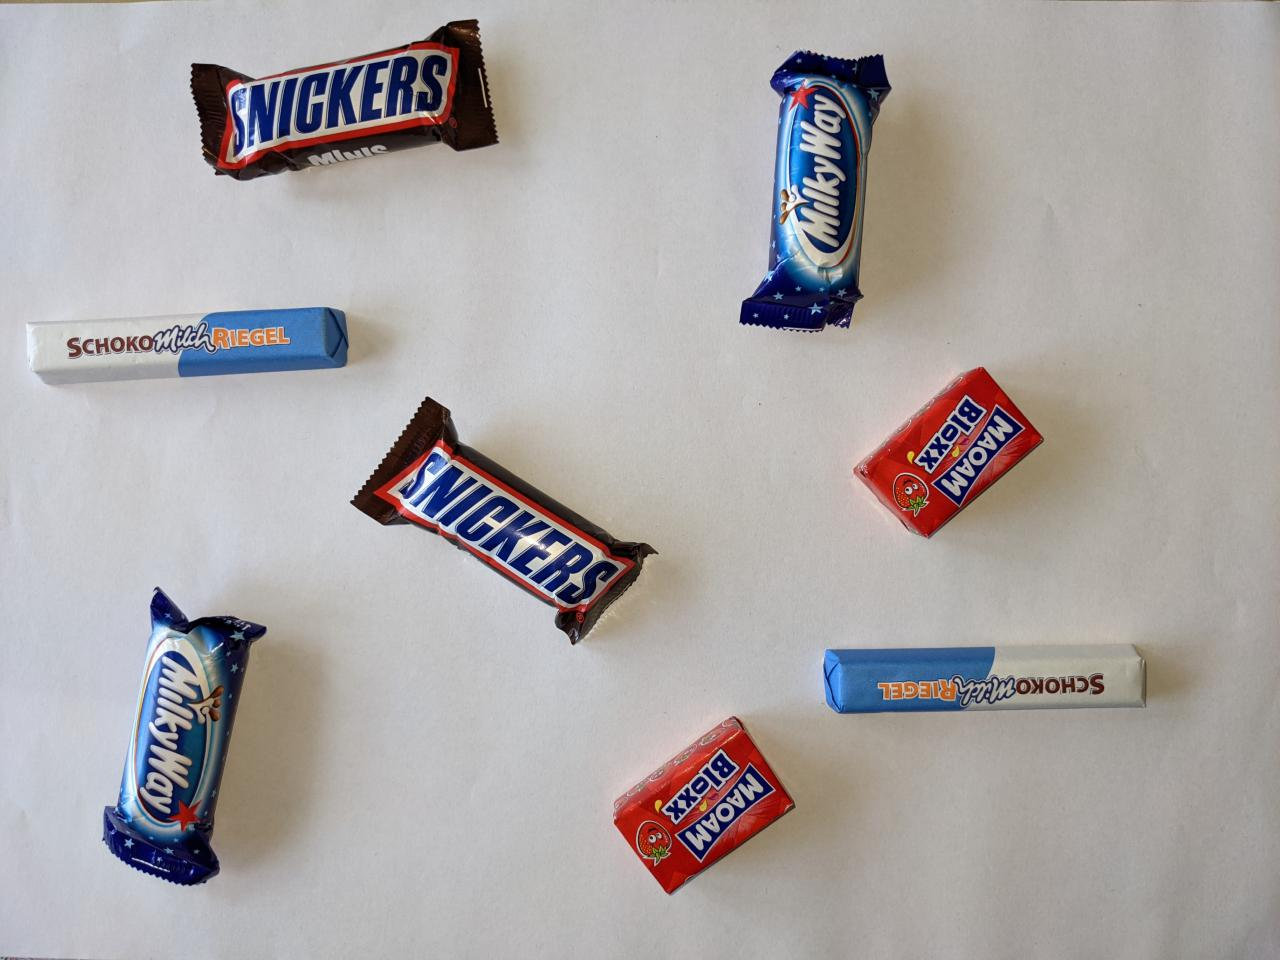MAOAM: (845, 360, 1054, 548), (605, 706, 803, 902)
MilkyWay: (97, 578, 276, 893), (734, 43, 899, 338)
Schokoriegel: (22, 301, 355, 393), (814, 634, 1154, 723)
Snickers: (338, 387, 664, 650), (182, 11, 510, 190)
